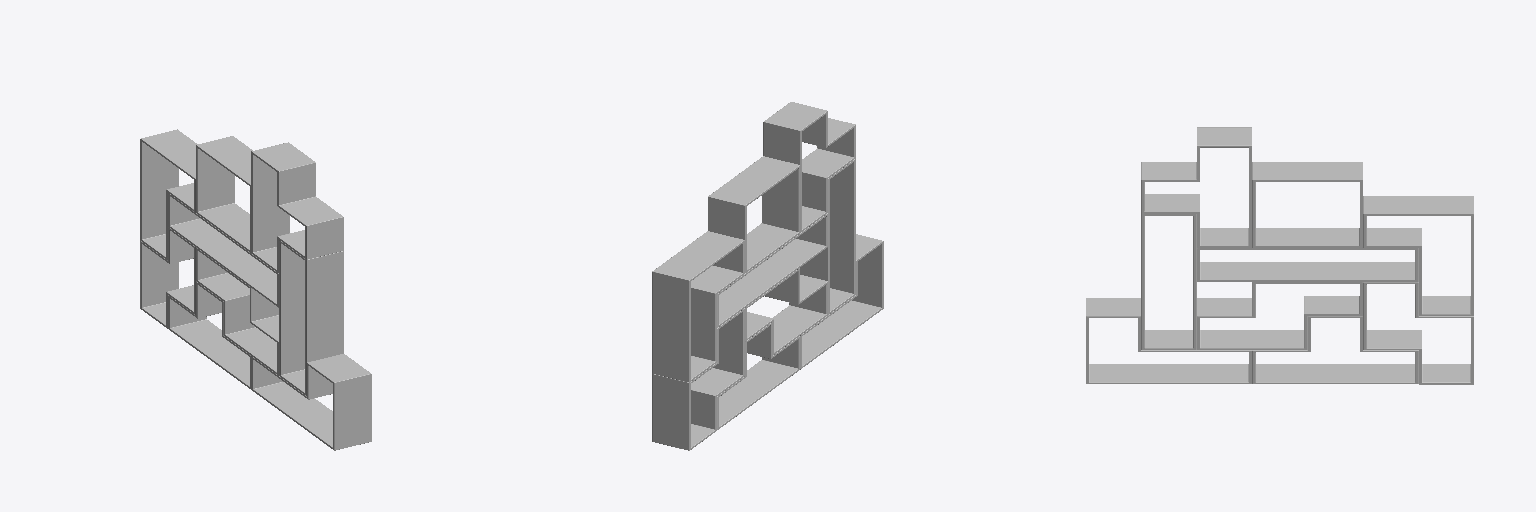
File: drawer.obj
3 renders of one model, left to right at view 1: azimuth 30°, elevation 25°; view 2: azimuth 150°, elevation 25°; view 3: azimuth 270°, elevation 25°, orthographic.
Visible parts, largest first — view 1: Cube.030; view 2: Cube.030; view 3: Cube.030.
Part boxes in pixels (x1,y1,x2,y2): Cube.030: (140, 129, 371, 450); Cube.030: (652, 102, 883, 450); Cube.030: (1086, 127, 1473, 384).
Size of the model in its own units: 0.4561 by 2.79 by 4.11.